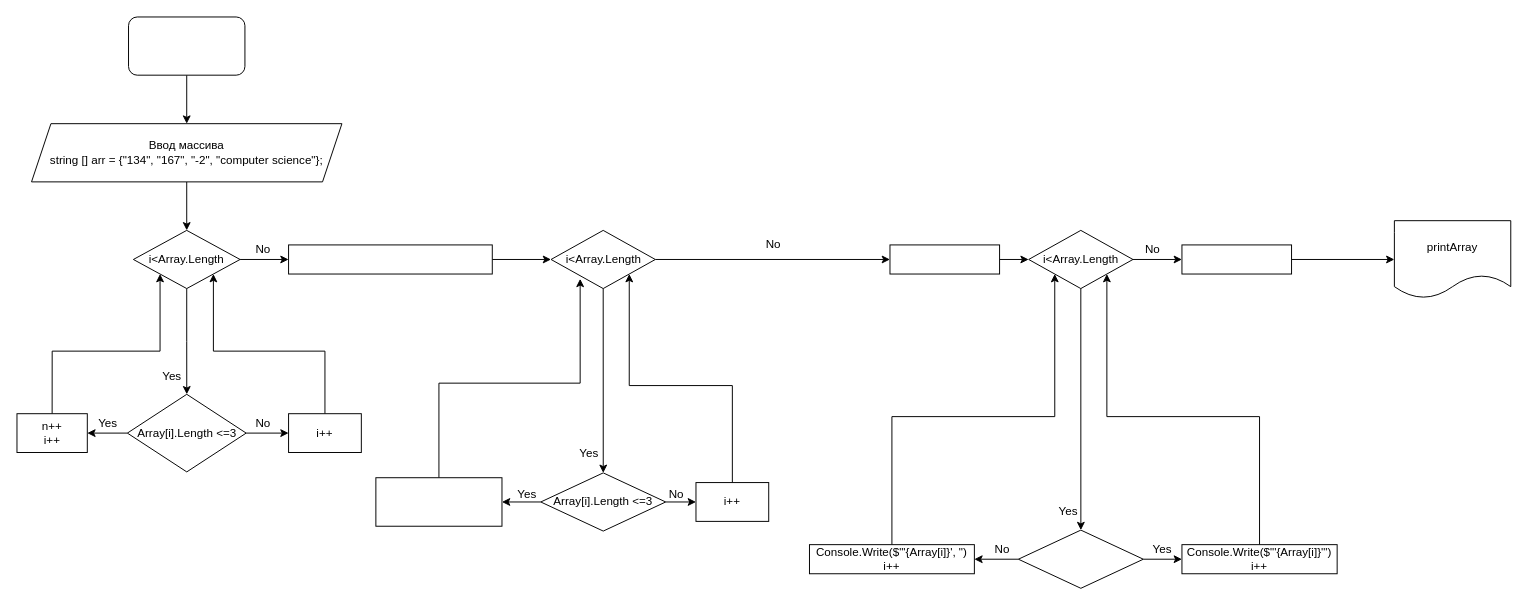
Image size: 1528x605. Some labels were removed from this diagram. Each missing label, with the centre of its shape:
Console.Write("["): (944,259)
Console.Write("]"): (1236,259)
i==Array.Length-1: (1080,558)
newArray[j] = Array[i]; j++ i++: (438,501)
START: (186,45)
Создание нового массива длинной n string [] newArray = new string [n]: (390,259)
